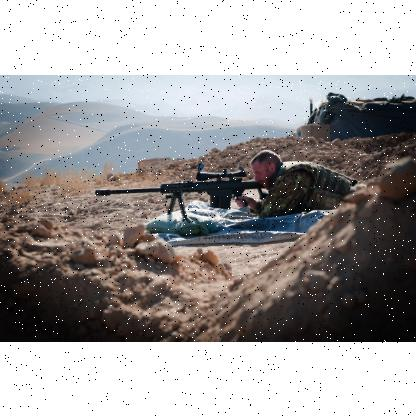gun: (107, 161, 281, 217)
